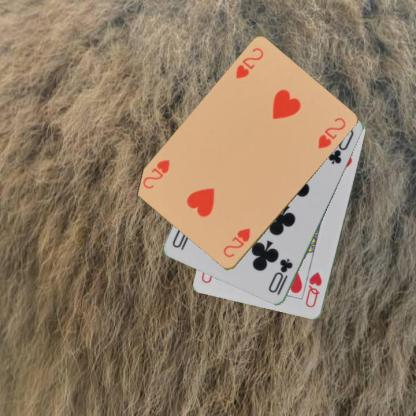10c: (266, 256, 294, 296)
2h: (233, 45, 265, 80), (220, 226, 252, 259)
Qh: (302, 269, 324, 309)
